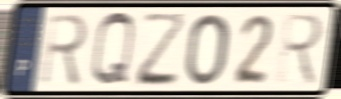2: (233, 12, 275, 87)
O: (183, 11, 232, 88)
Q: (89, 9, 137, 91)
R: (274, 11, 326, 89), (38, 12, 90, 88)
Z: (135, 10, 189, 90)
